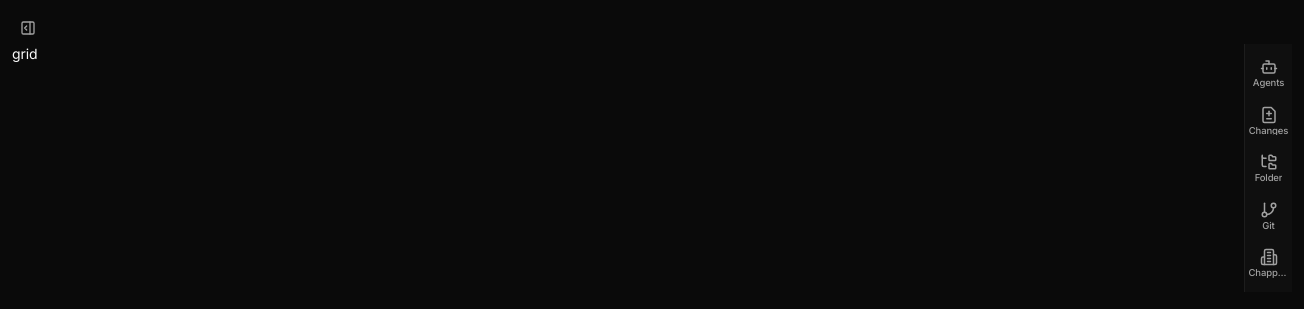
Test: IdeSidePanel › opens from the caption toggle and closes from its own header
Click the button with test id "ide-side-panel-toggle": (28, 28) [12,12,44,44]
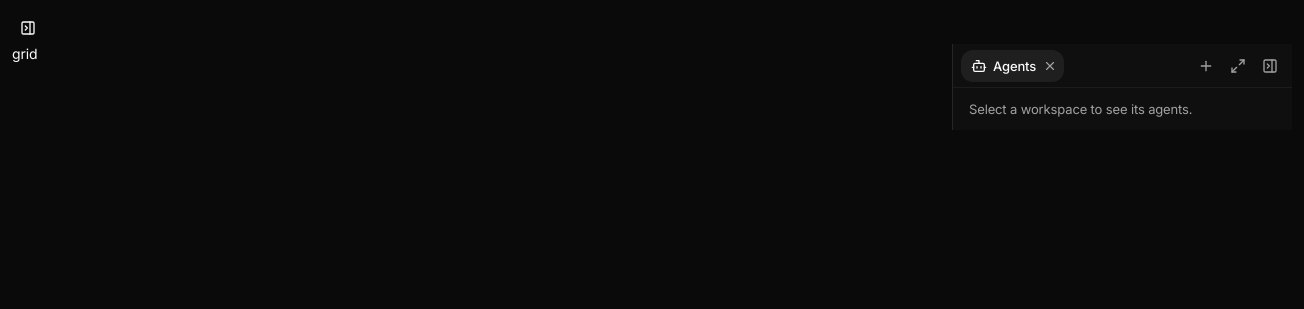
Expected: the element with test id "ide-side-panel" is shown, [952,44,1292,130]
Expected: the element with test id "ide-workspace-agents" is shown, [969,101,1192,117]
Expected: the element with test id "ide-side-panel-resizer" is shown, [949,44,955,130]
Click the button with test id "ide-side-panel-collapse": (1270, 66) [1256,52,1284,80]
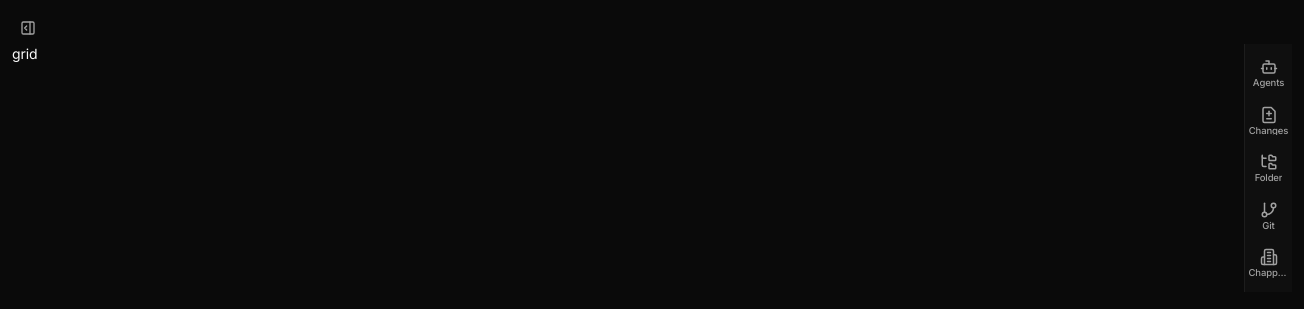
Expected: the element with test id "ide-side-panel" is gone
